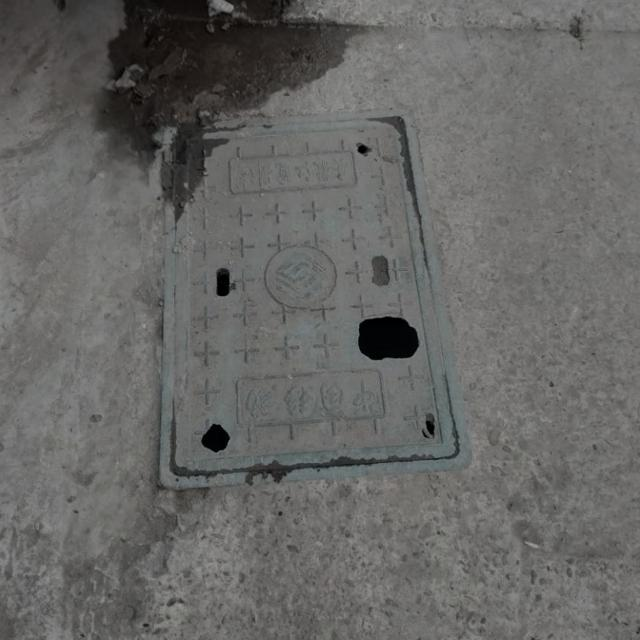broke: (155, 109, 473, 488)
